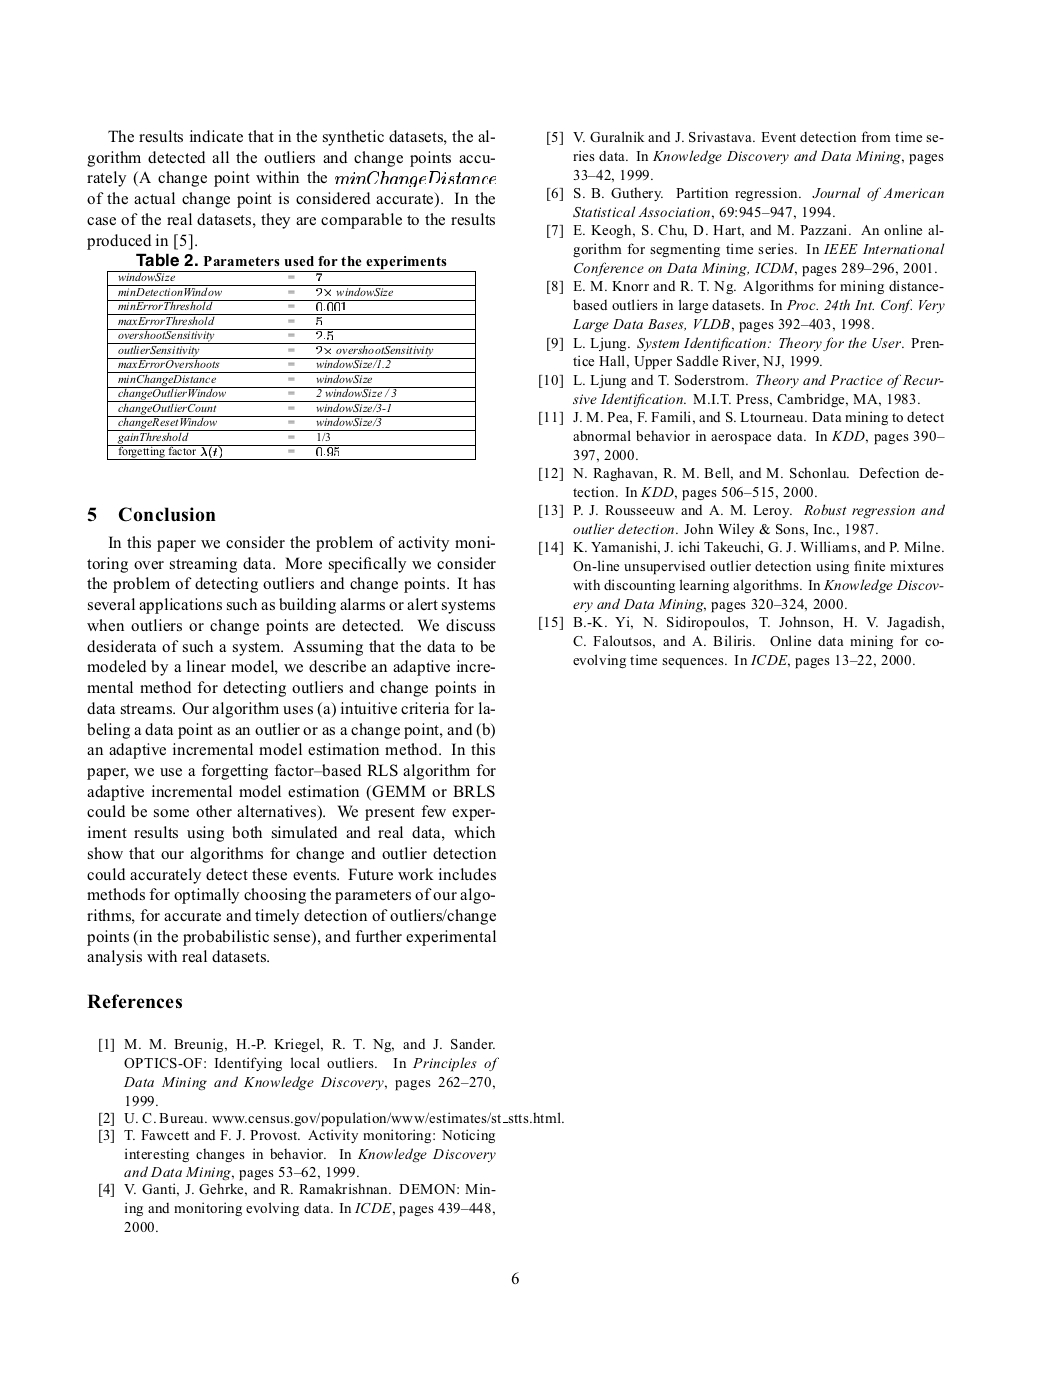Table: (107, 271, 475, 459)
